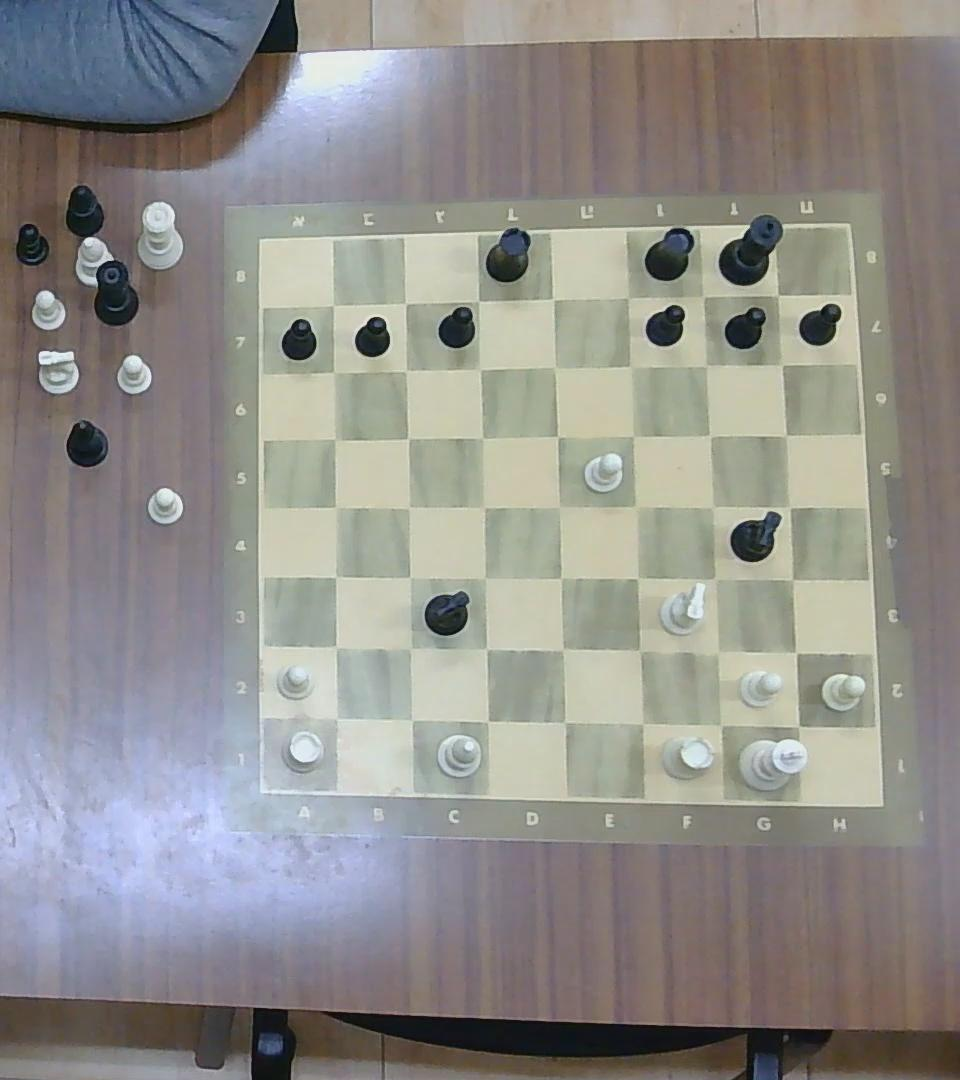xcorner: (624, 705, 658, 739), (702, 707, 737, 740), (781, 708, 813, 742), (701, 635, 734, 667), (470, 704, 502, 736), (624, 633, 655, 665), (548, 706, 579, 738), (547, 633, 578, 665), (470, 632, 501, 663), (320, 701, 351, 732), (780, 637, 811, 668), (395, 703, 425, 734), (699, 563, 729, 594), (622, 563, 652, 593), (320, 631, 350, 661), (470, 563, 500, 593), (547, 563, 576, 593), (320, 562, 350, 591), (394, 633, 424, 662), (776, 564, 806, 593), (622, 491, 651, 520), (394, 562, 423, 591), (616, 351, 645, 380), (618, 421, 648, 449), (545, 491, 573, 520), (470, 491, 498, 520), (540, 352, 568, 380), (698, 492, 727, 519), (775, 492, 804, 519), (467, 423, 495, 450), (395, 492, 423, 519), (543, 421, 571, 448), (322, 494, 350, 521), (696, 422, 723, 448), (615, 283, 641, 310), (540, 285, 566, 312), (393, 424, 421, 449), (693, 351, 719, 377), (322, 424, 348, 449), (690, 284, 716, 309), (768, 350, 794, 375), (467, 355, 492, 380), (465, 288, 491, 312), (393, 357, 418, 381), (773, 421, 798, 445), (393, 290, 418, 313), (323, 360, 346, 382), (767, 284, 789, 306), (322, 293, 345, 314)
